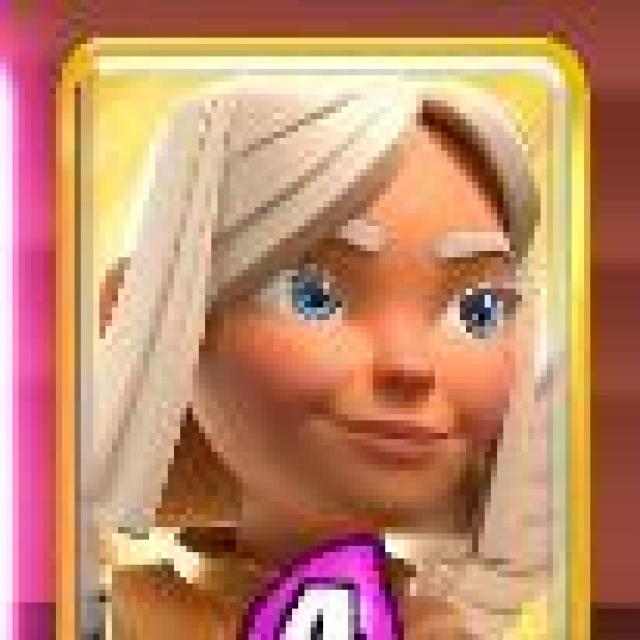Battle_Healer: (60, 35, 588, 640)
